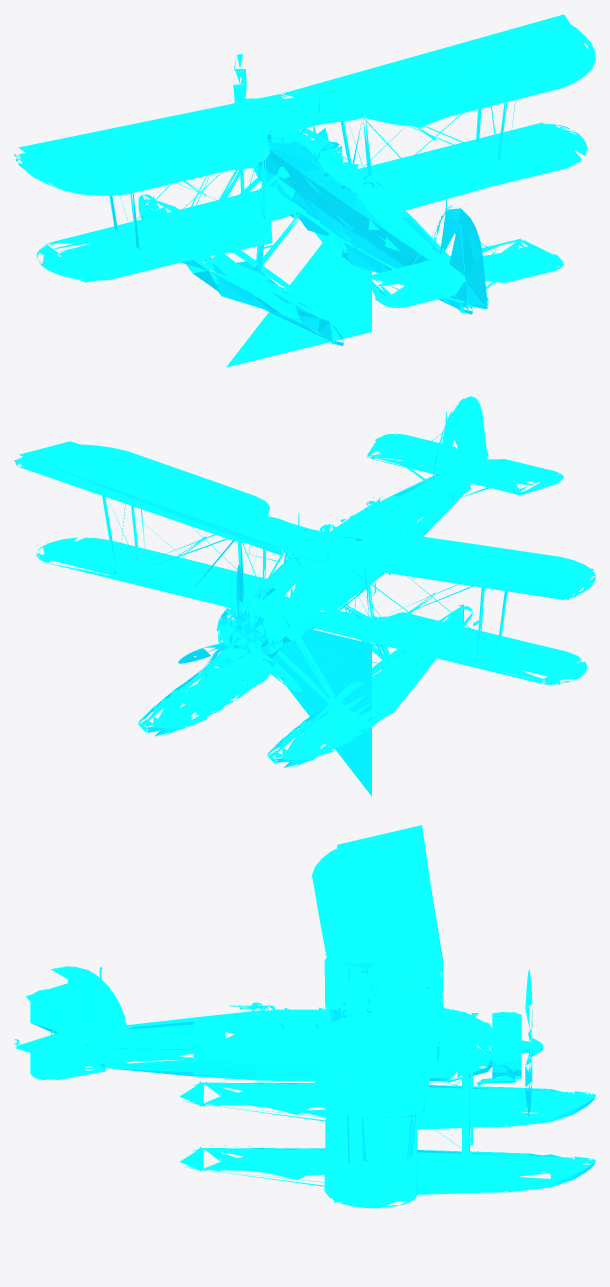
File: PBAS005.glb
The picture shows the model from 3 angles, top to bottom: view 1: azimuth 30°, elevation 25°; view 2: azimuth 150°, elevation 25°; view 3: azimuth 270°, elevation 25°; orthographic projection. The views are drawn at different scales.
Parts seen in each view (by area): view 1: misc; view 2: misc; view 3: misc.
Part boxes in pixels (x1,y1,x2,y2): misc: (14, 14, 595, 367); misc: (14, 396, 595, 796); misc: (14, 825, 595, 1208).
Size of the model in its own units: 0.9255 by 0.417 by 0.8059.
